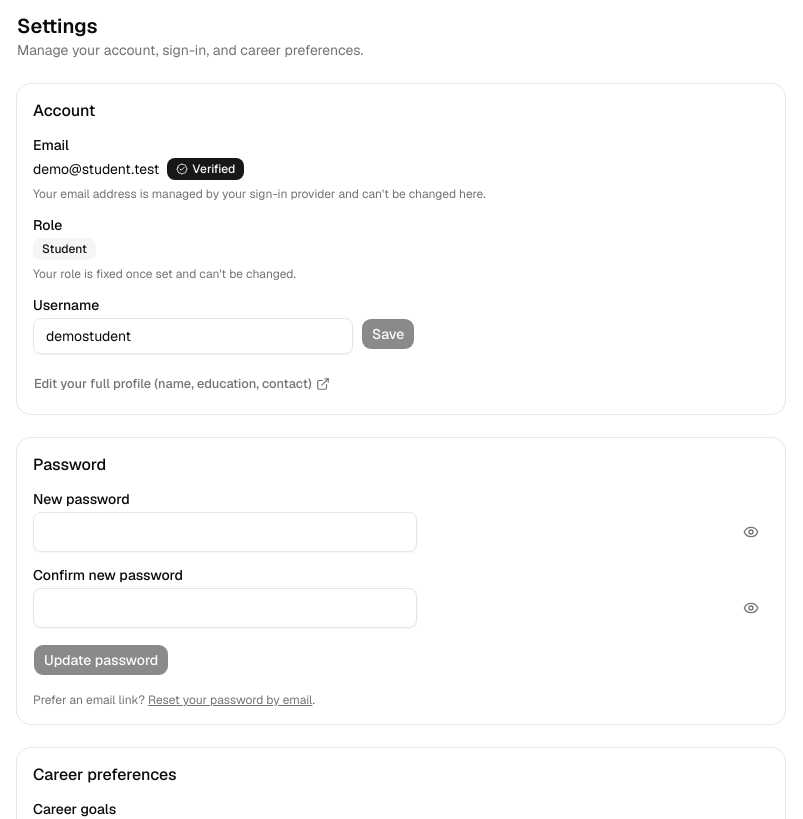
Test case: SettingsView › updates the username via the canonical profile path, sending no ownership/role field
Replace the text in the field labelled "Username" with "new_handle" at (193, 336), box [33,318,353,354]
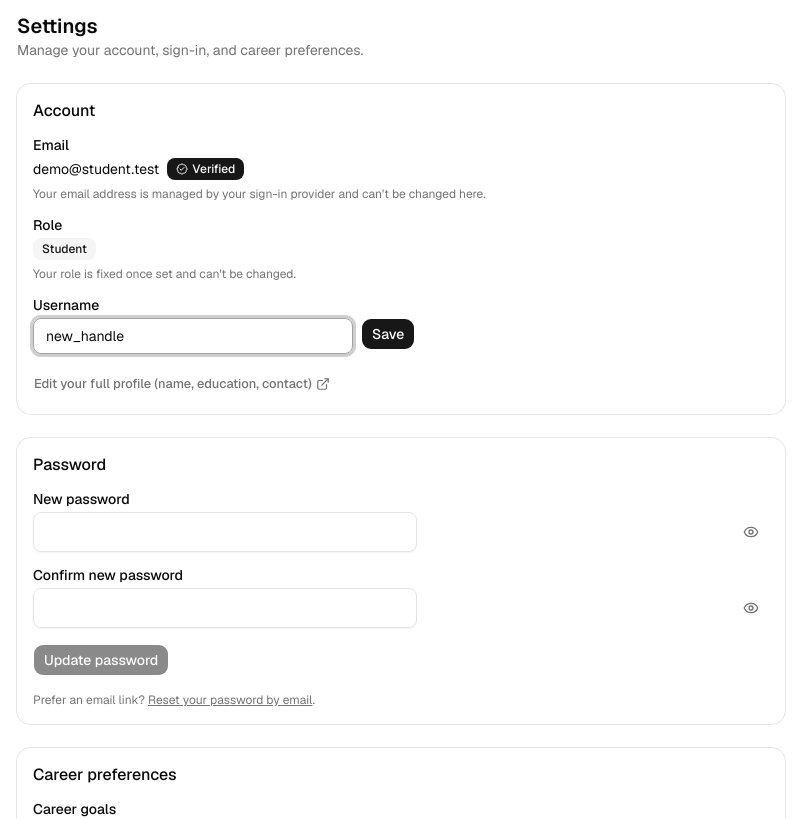
Click the button "Save" at (388, 334), box [361,318,415,350]
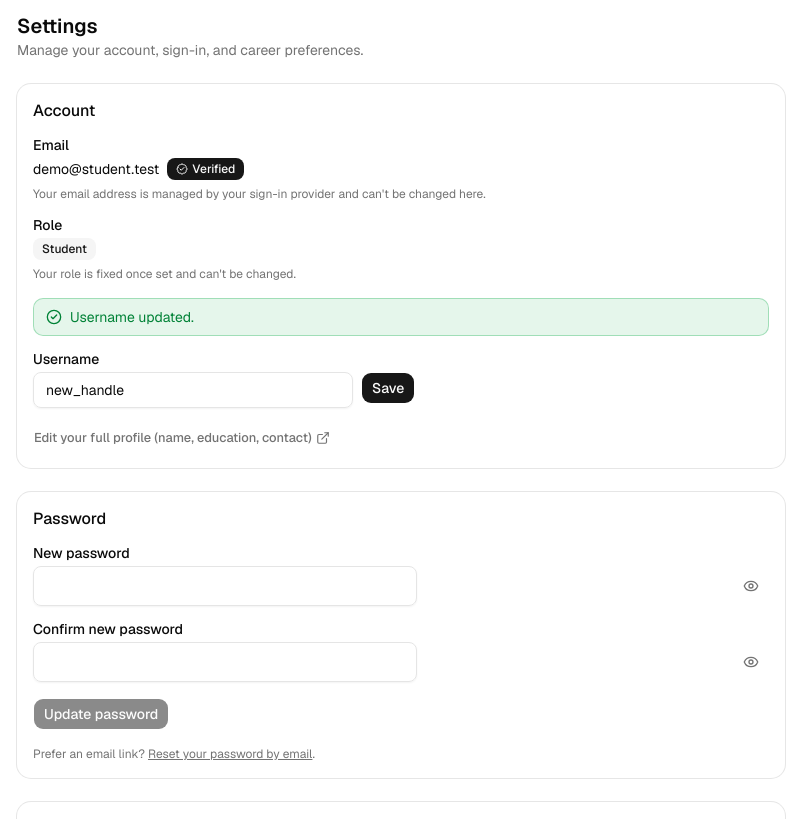
Check: the text "Username updated." is shown, box [70,307,194,327]
